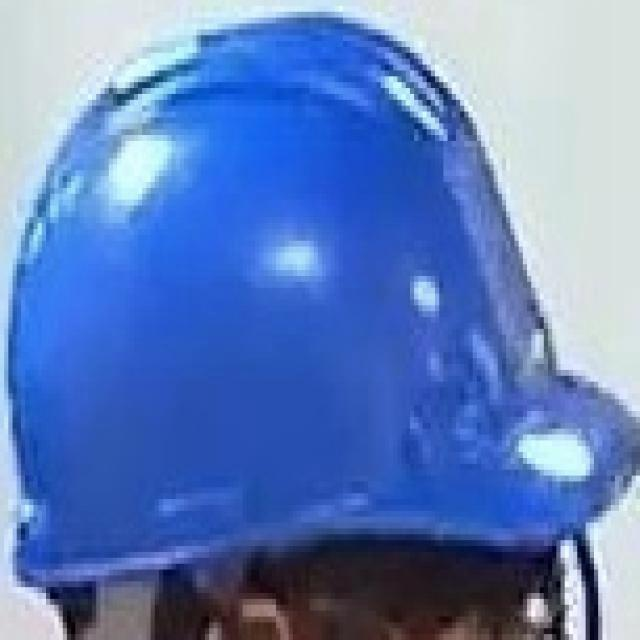safety_helmet: (4, 13, 638, 590)
